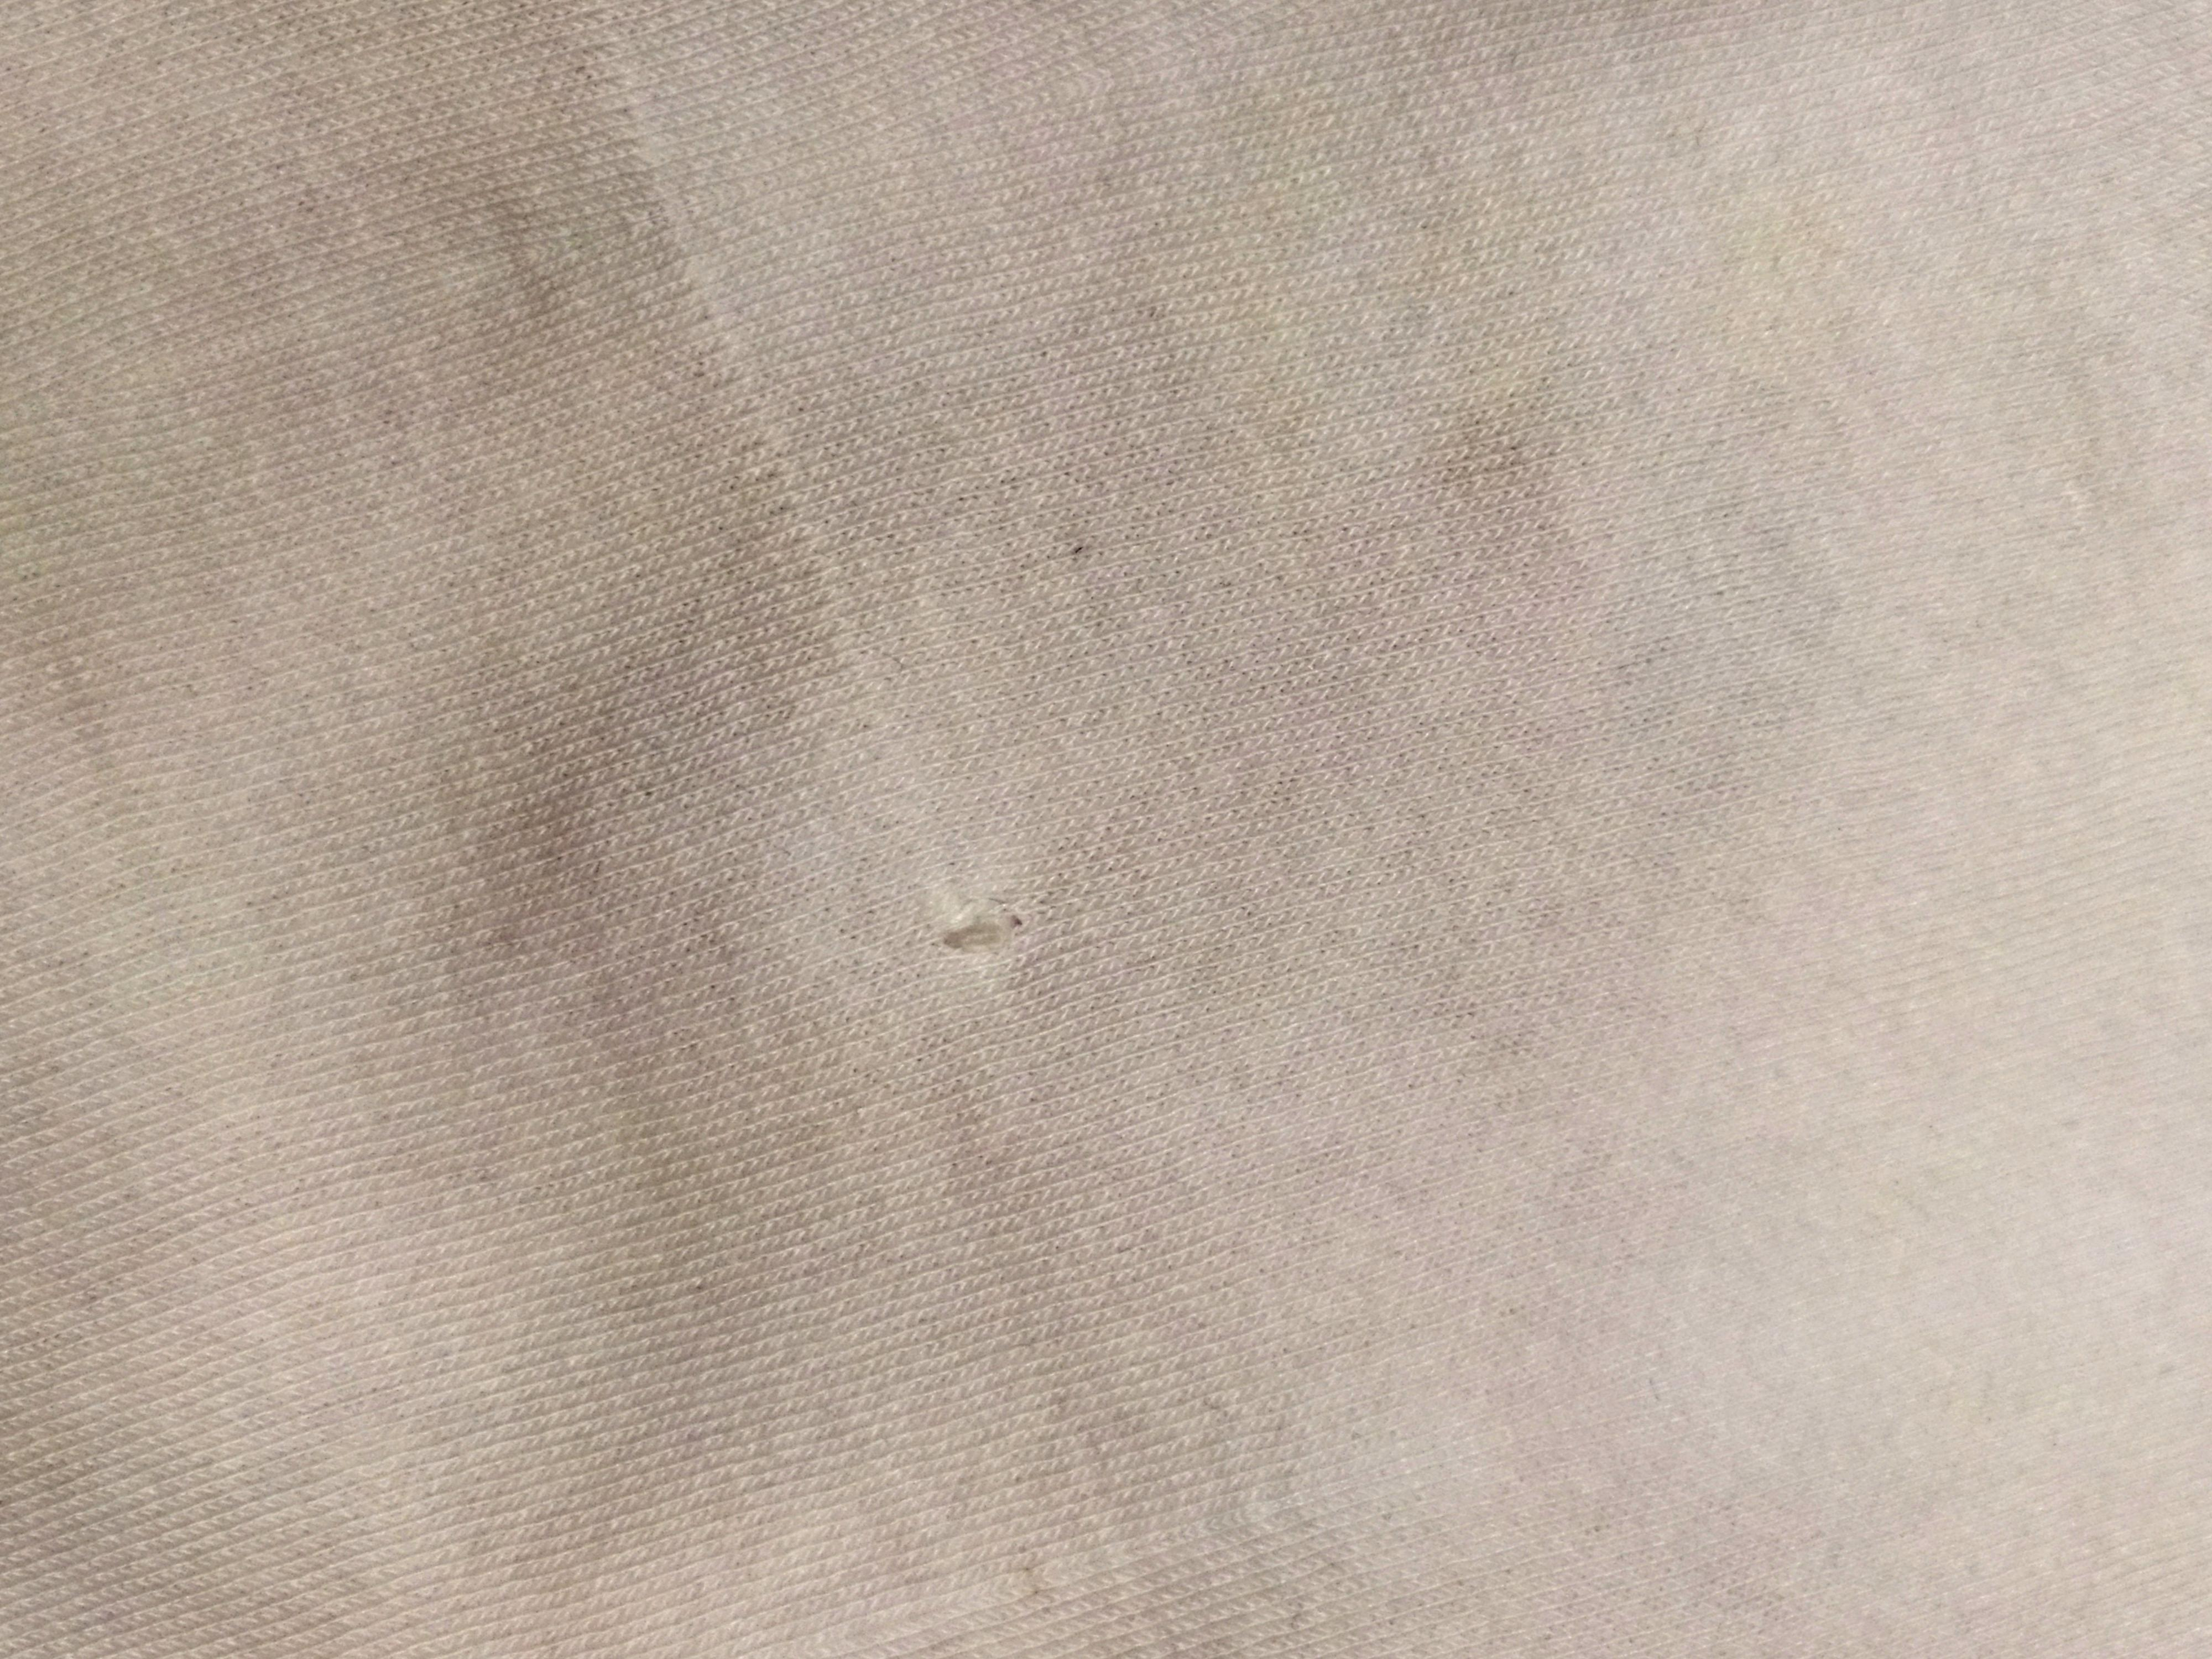knot: (909, 856, 1068, 979)
